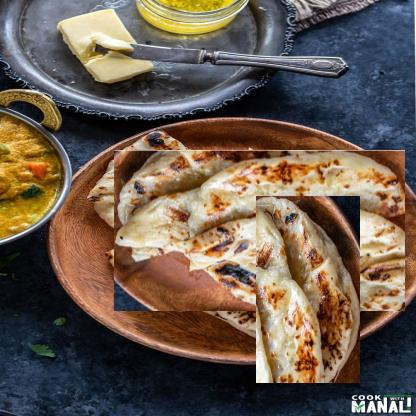naan: (113, 150, 405, 311), (85, 128, 335, 256), (235, 216, 381, 362)
